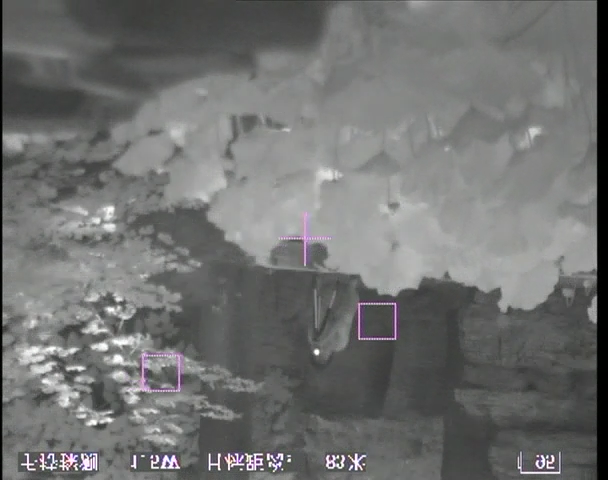my: (312, 346, 322, 357)
